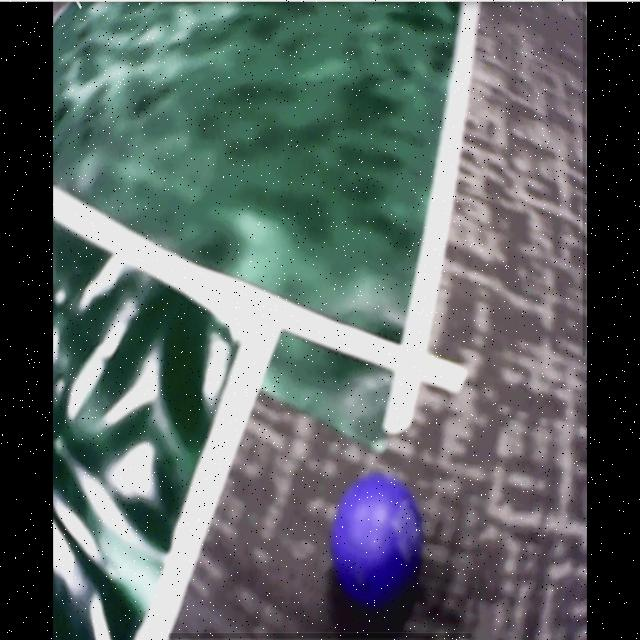ball: (336, 473, 423, 616)
